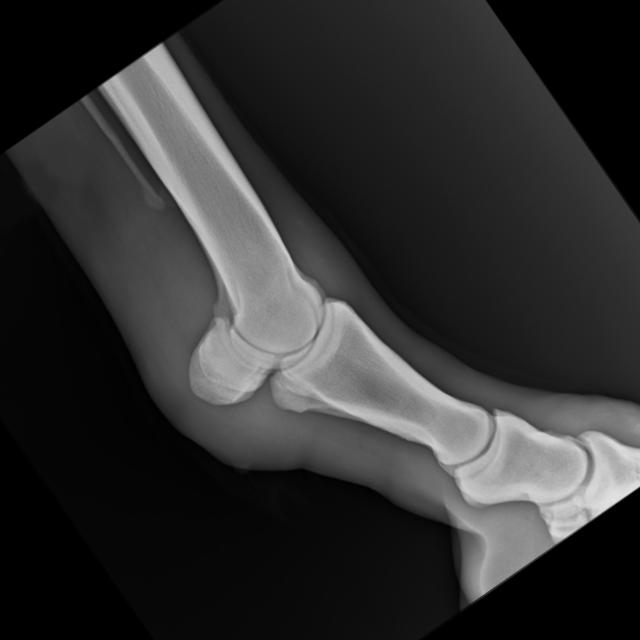joint-ht8A: (90, 157, 453, 507)
